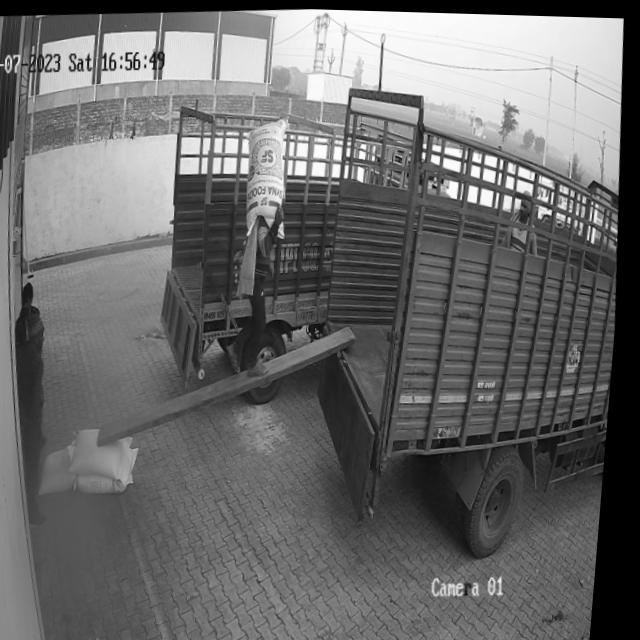sack: (242, 115, 297, 235), (73, 424, 143, 483), (80, 445, 148, 494), (44, 444, 88, 496)
